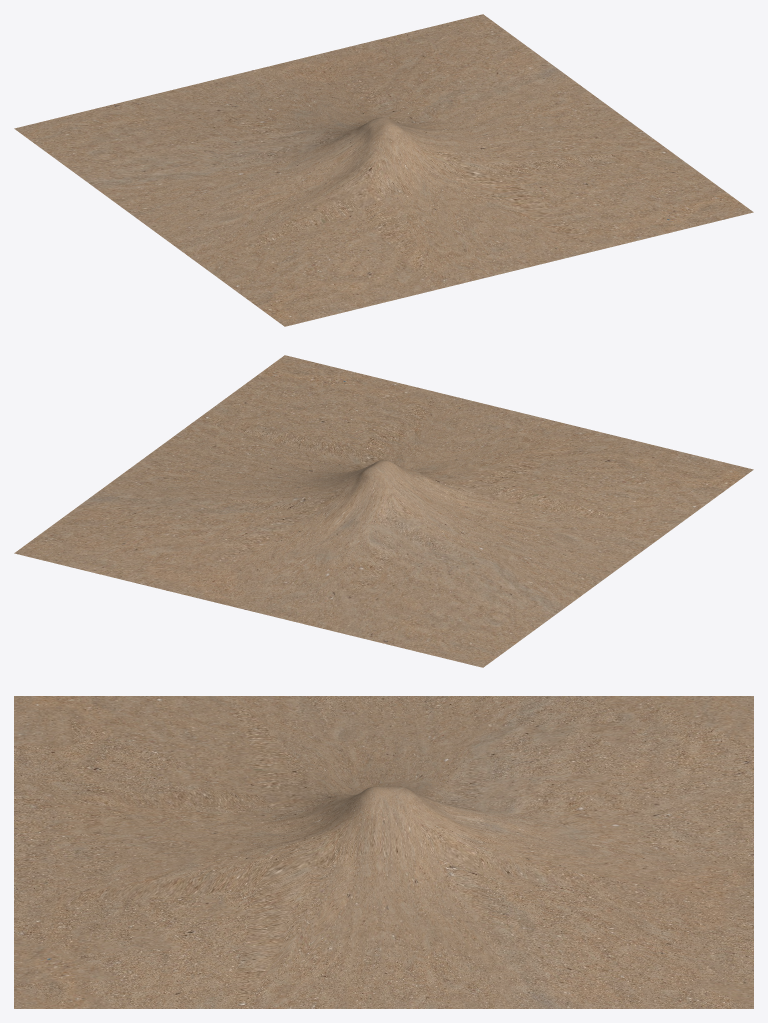
Rendered from Sand.glb.
3 views of the same model, one above another, from view 1: azimuth 30°, elevation 25°; view 2: azimuth 150°, elevation 25°; view 3: azimuth 270°, elevation 25° (orthographic). The views are drawn at different scales.
Visible parts, largest first — view 1: Sand; view 2: Sand; view 3: Sand.
Boxes of the visible parts, box(x1,y1,x2,y2) form: Sand: box(14, 14, 753, 326); Sand: box(14, 355, 753, 667); Sand: box(14, 696, 753, 1008).
Size of the model in its own units: 80 by 7.78 by 80.
Materials: 1 (1 with a texture image).
